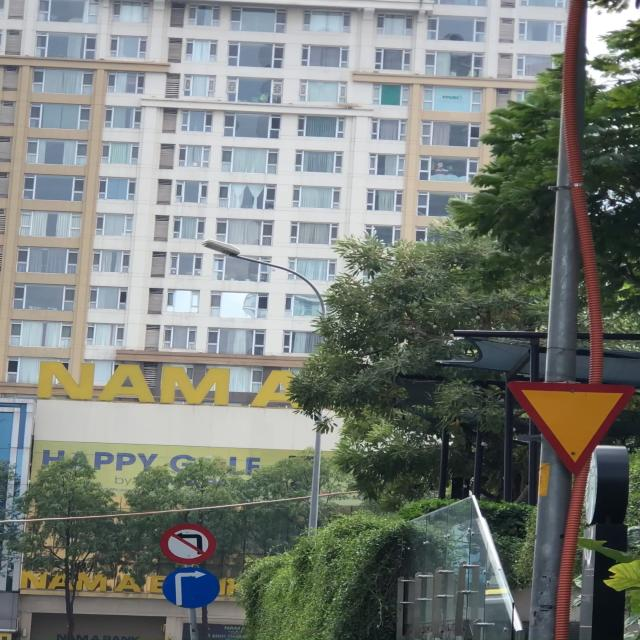Bien bao cam re trai: (156, 521, 220, 567)
Bien bao giao nhau voi duong uu tien: (503, 377, 629, 477)
Bien bao huong di phai theo: (160, 566, 228, 612)
